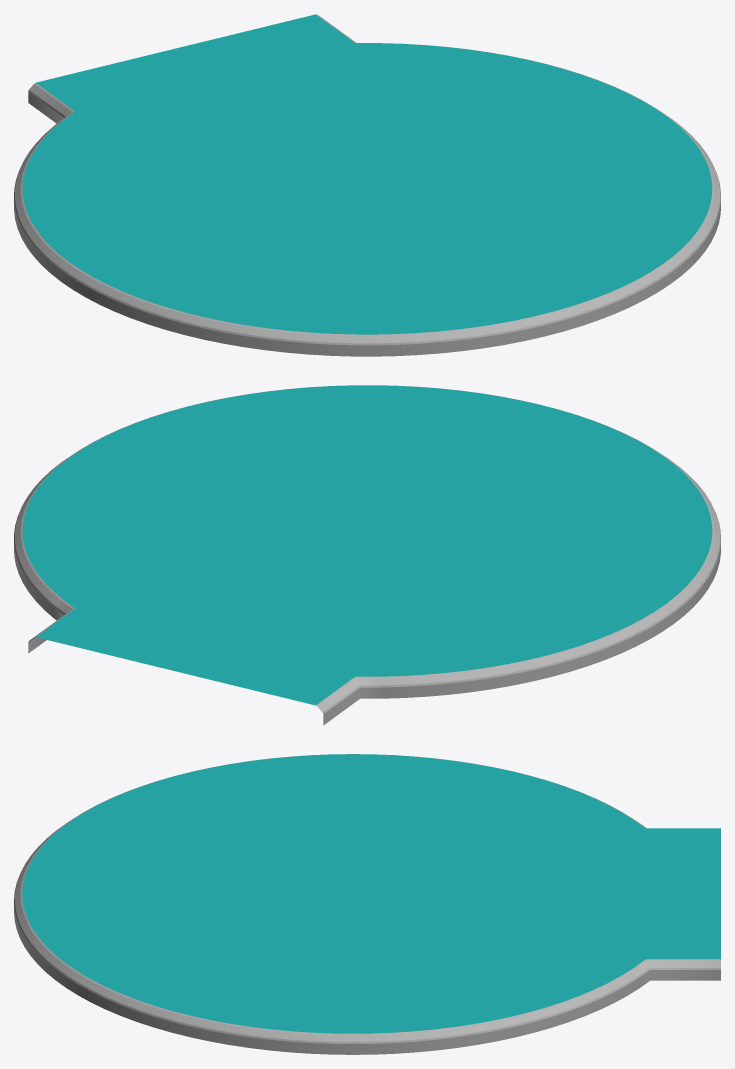
The model's file is podium.fbx.
3 views of the same model, one above another, from view 1: azimuth 30°, elevation 25°; view 2: azimuth 150°, elevation 25°; view 3: azimuth 270°, elevation 25° (orthographic). The views are drawn at different scales.
Visible parts, largest first — view 1: podium; view 2: podium; view 3: podium.
Part boxes in pixels (left/top/right/bottom): podium: left=14, top=14, right=720, bottom=356; podium: left=14, top=385, right=720, bottom=725; podium: left=14, top=754, right=720, bottom=1054.
Bounding box in the file's own units: 7.38 × 0.2116 × 7.69.
